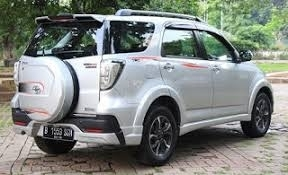plate: (43, 124, 73, 140)
